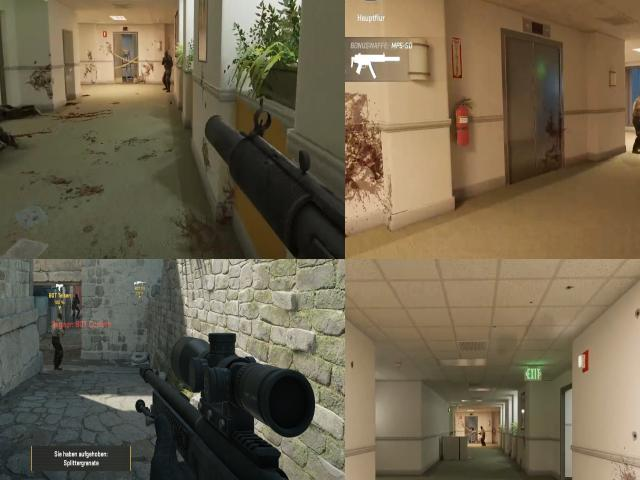CT: (70, 292, 81, 318)
CT-Head: (72, 293, 78, 300)
Dead: (0, 101, 46, 120)
T: (48, 314, 67, 373), (631, 83, 640, 126), (479, 425, 488, 445)
T-Head: (56, 312, 62, 324), (636, 88, 640, 105)
